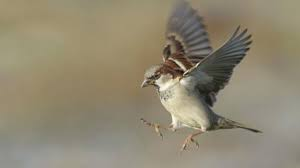hsparrow: (137, 2, 270, 157)
